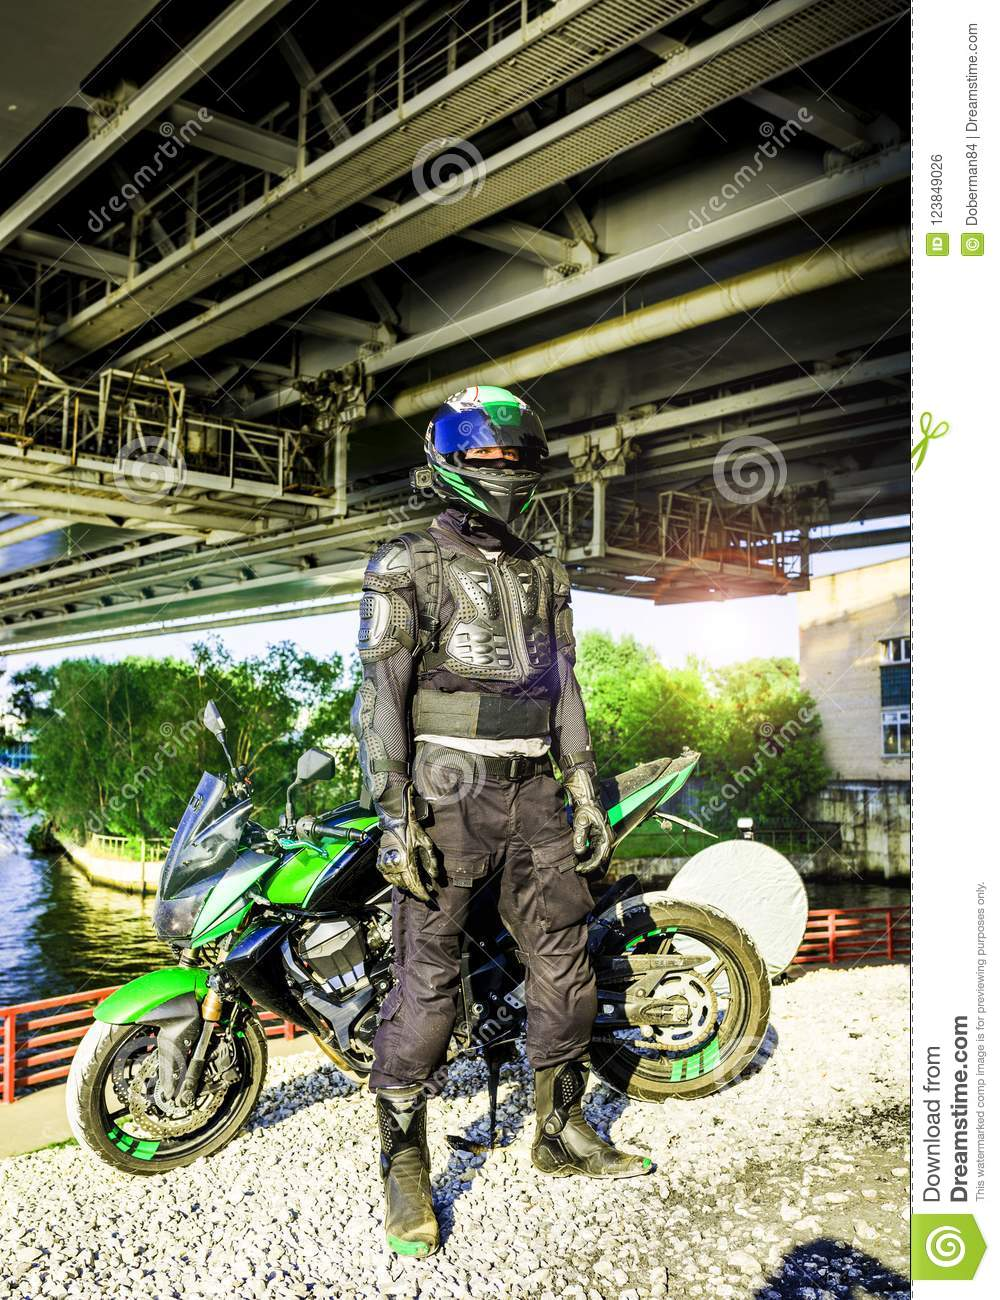helmet: (426, 393, 553, 527)
